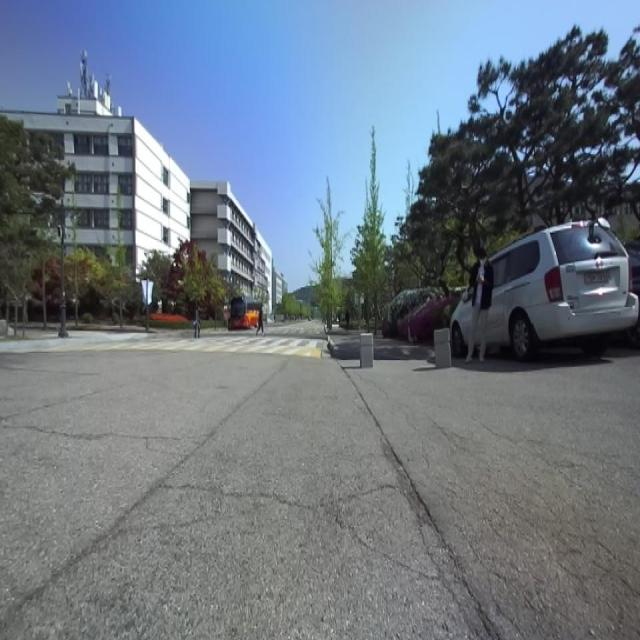sidewalk: (336, 357, 640, 640), (330, 336, 360, 349), (374, 338, 409, 346)
